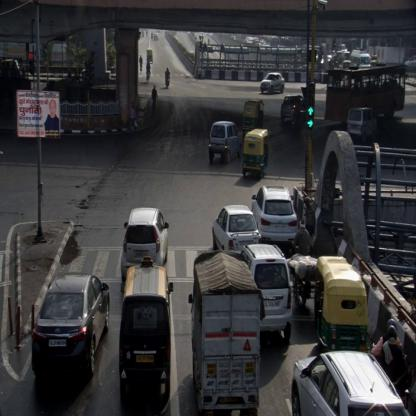bus: (326, 63, 405, 123), (350, 46, 370, 66)
car: (30, 272, 110, 376), (292, 349, 410, 415), (120, 260, 172, 398), (243, 245, 292, 344), (251, 183, 299, 254), (119, 205, 166, 277), (213, 206, 261, 257), (210, 121, 242, 162), (346, 106, 378, 140), (280, 94, 307, 123), (260, 70, 285, 94)
motorcycle: (294, 220, 312, 306), (146, 60, 152, 82), (165, 66, 170, 90)
truck: (188, 252, 258, 414)
